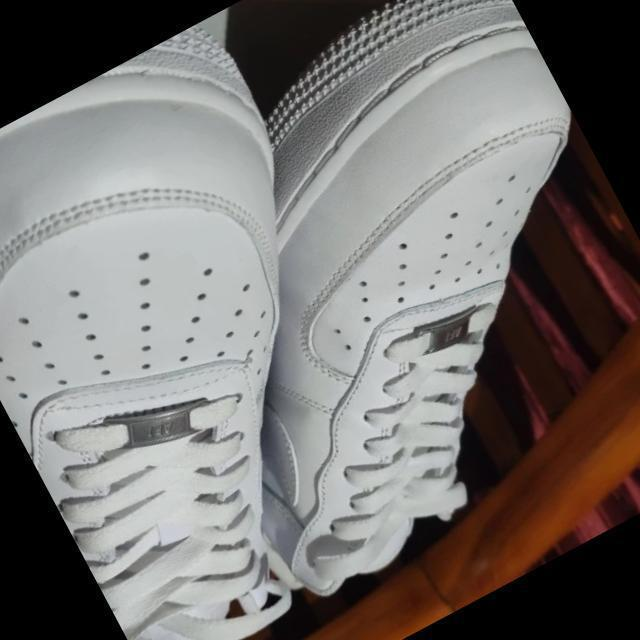nike original air force: (73, 0, 640, 611), (0, 14, 471, 640)
